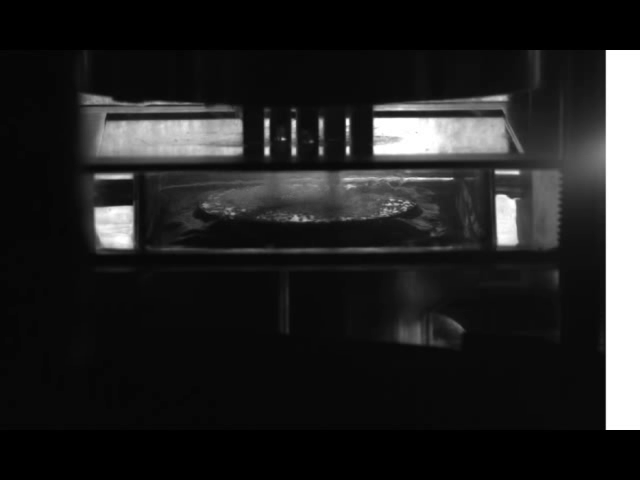Zona de teste: (198, 177, 414, 224)
